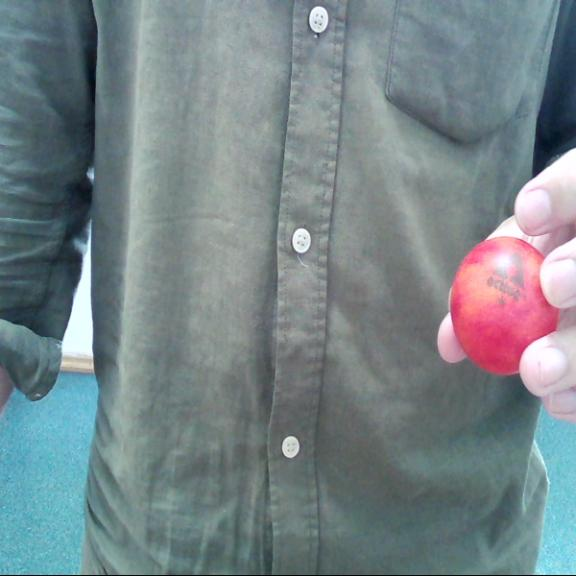ball: (450, 237, 558, 373)
